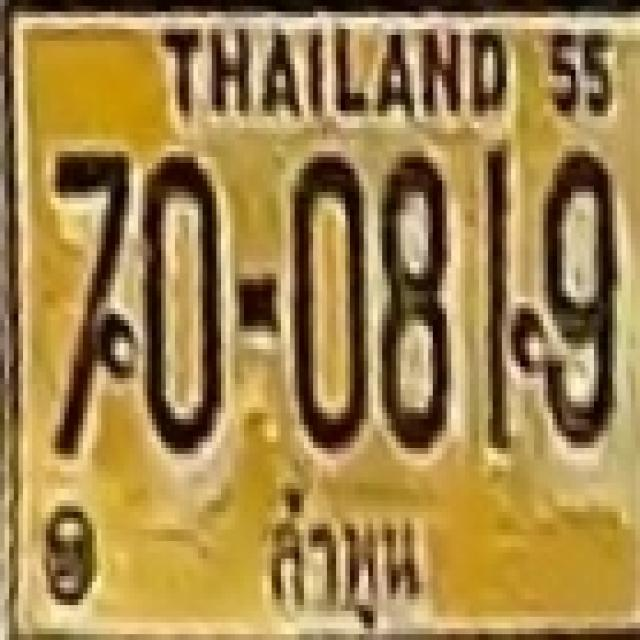0: (140, 151, 224, 448), (290, 151, 368, 442)
8: (382, 148, 456, 445)
9: (538, 146, 622, 442)
LPN: (244, 477, 437, 640)
